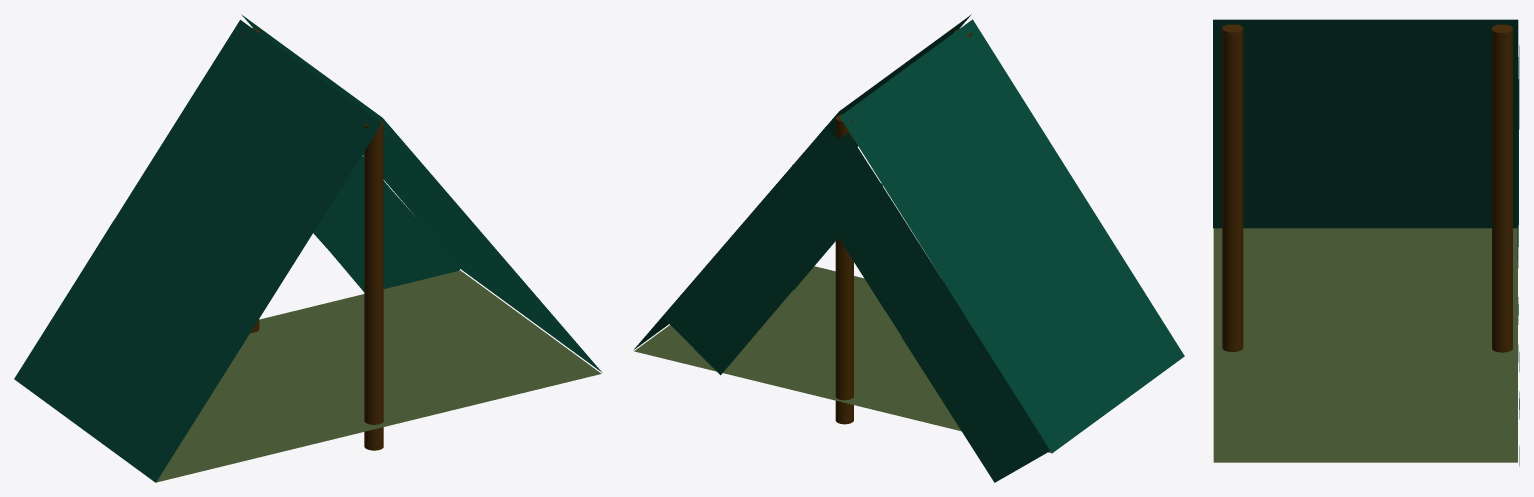
Rendered from Tent.fbx.
3 renders of one model, left to right at view 1: azimuth 30°, elevation 25°; view 2: azimuth 150°, elevation 25°; view 3: azimuth 270°, elevation 25°, orthographic. The views are drawn at different scales.
Visible parts, largest first — view 1: Plane.001; view 2: Plane.001; view 3: Plane.001.
Part boxes in pixels (bbox=[...]): Plane.001: bbox=[14, 14, 602, 482]; Plane.001: bbox=[633, 14, 1184, 482]; Plane.001: bbox=[1213, 19, 1519, 465].
Bounding box in the file's own units: 418 × 318 × 230.
